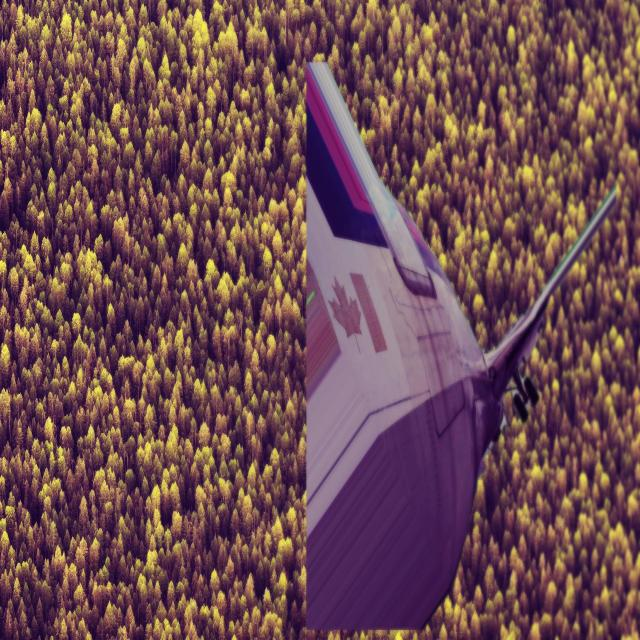airplane: (303, 59, 619, 632)
